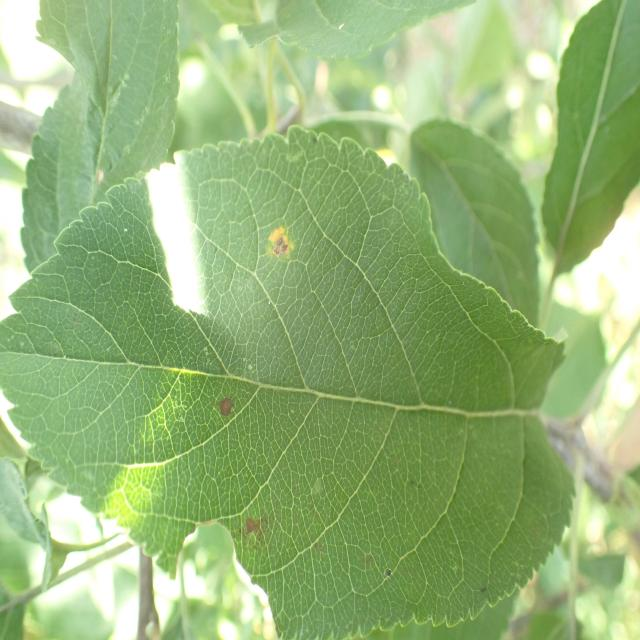rust: (0, 122, 573, 640)
